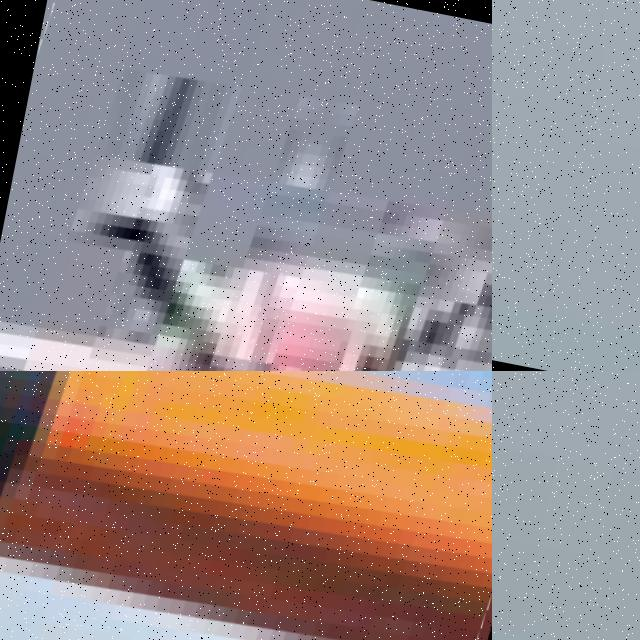drone: (0, 0, 492, 371), (0, 371, 492, 640)
